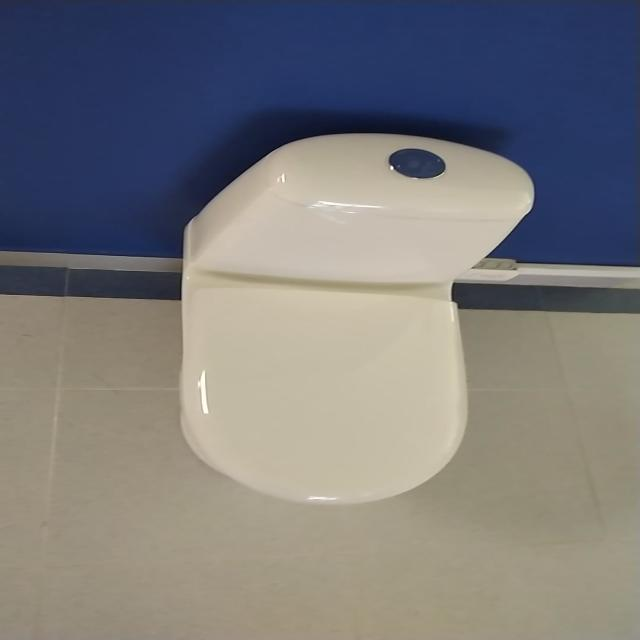toilet: (177, 131, 535, 505)
